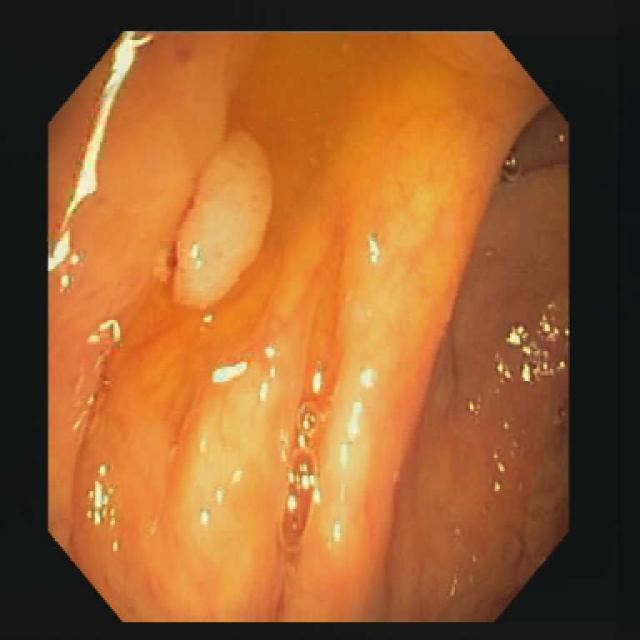tumor: (177, 133, 272, 307)
